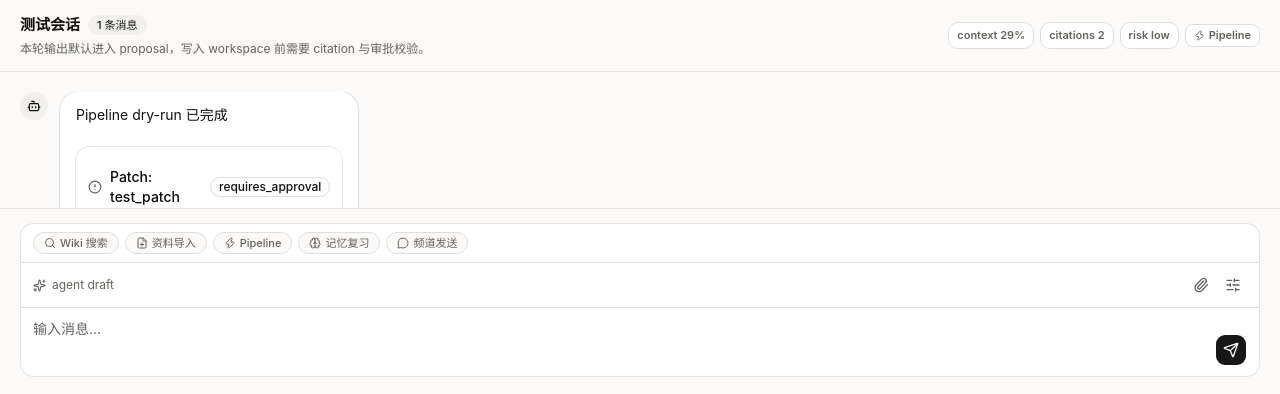
Scenario: ChatPanel › selects_skill_on_click
Click the button with test id "skill-btn-wiki-search" at (76, 243), box [33,232,119,254]
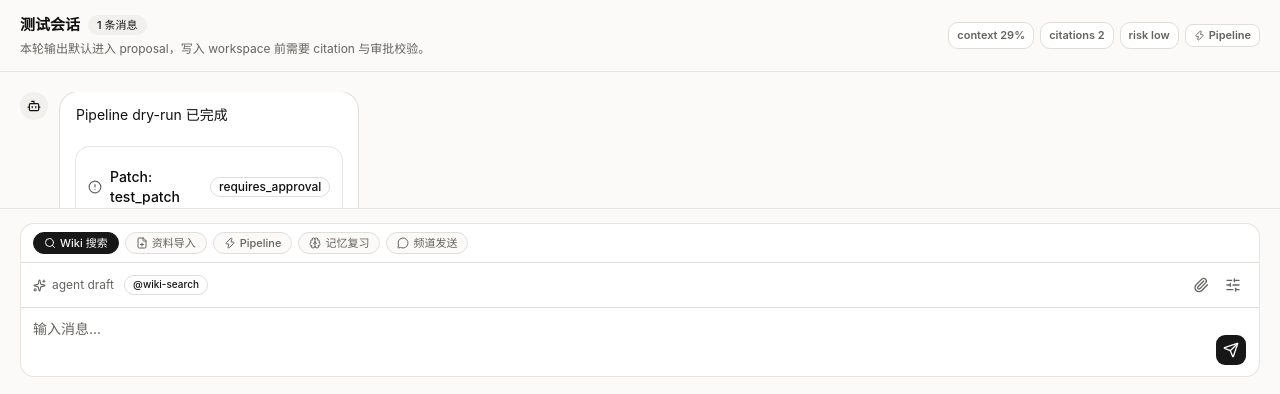
Expected: the text "@wiki-search" is shown, [124,275,208,295]
Click the button with test id "skill-btn-wiki-search" at (76, 243), box [33,232,119,254]
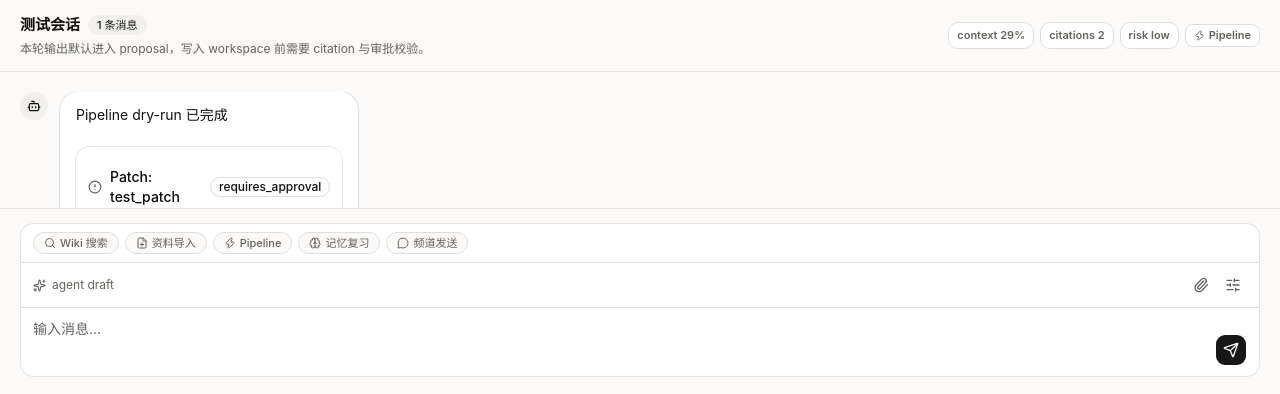
Expected: the text "@wiki-search" is gone
